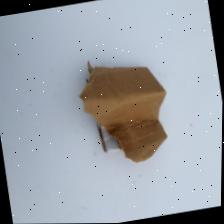cardboard: (67, 39, 184, 186)
